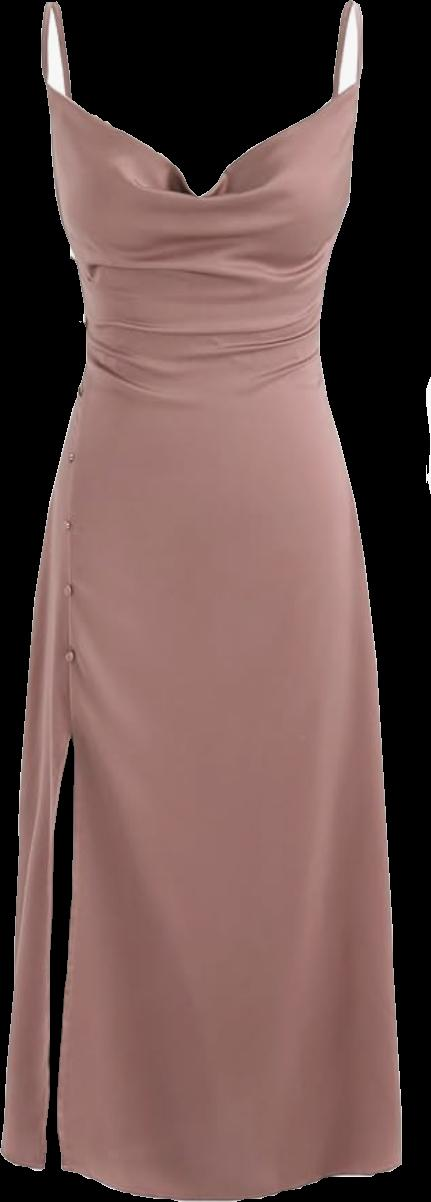Bodice: (41, 0, 362, 364)
Hemline: (0, 727, 412, 1201)
Neckline: (46, 0, 358, 202)
Skirt: (1, 357, 401, 1199)
